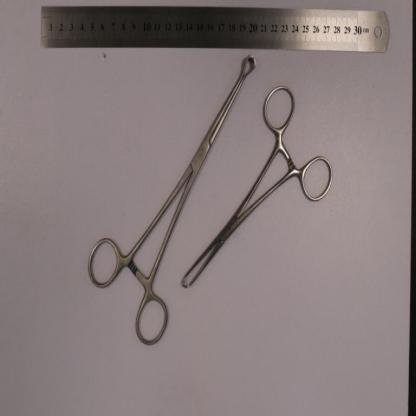8 Babcock Tissue Forceps: (87, 56, 256, 346)
Allis Tissue Forceps: (182, 83, 333, 290)
